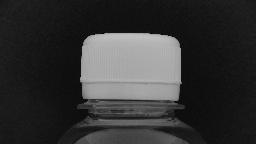Good Cap: (74, 31, 188, 114)
